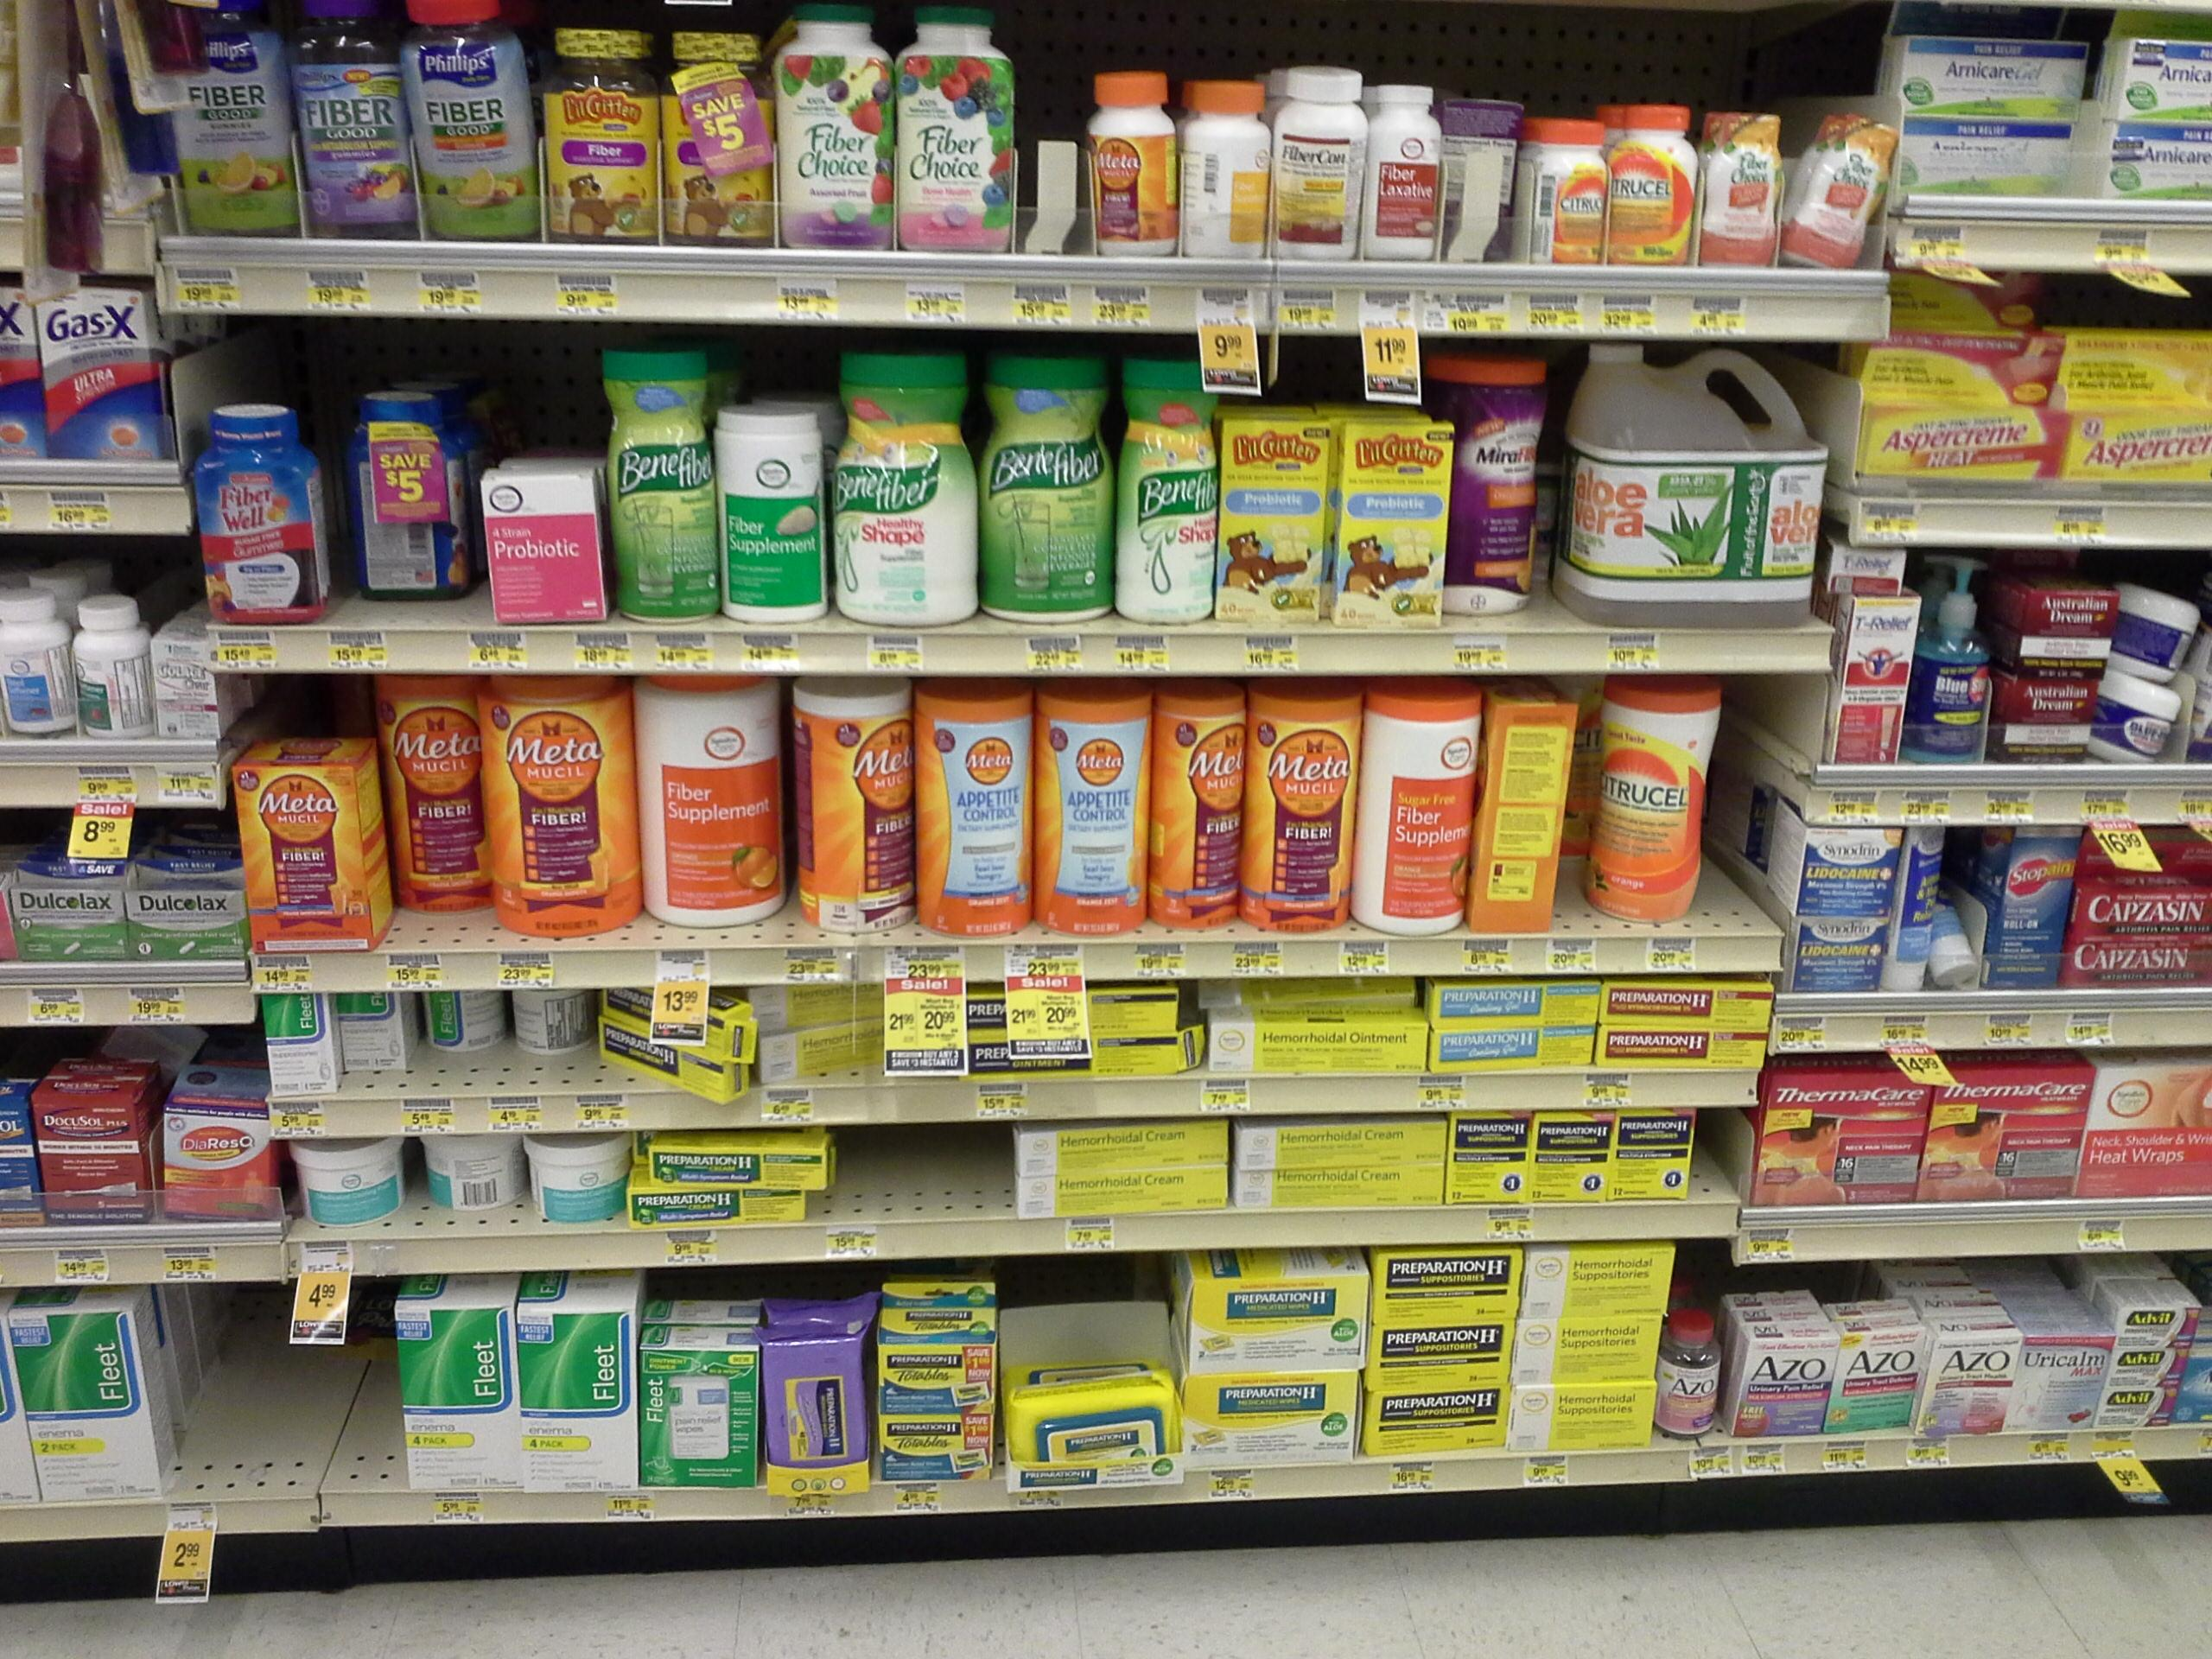misalignment: (597, 978, 763, 1107), (1479, 683, 1554, 946), (636, 1136, 836, 1220), (2104, 579, 2193, 762), (1801, 103, 1892, 268), (1933, 866, 1982, 1002)
